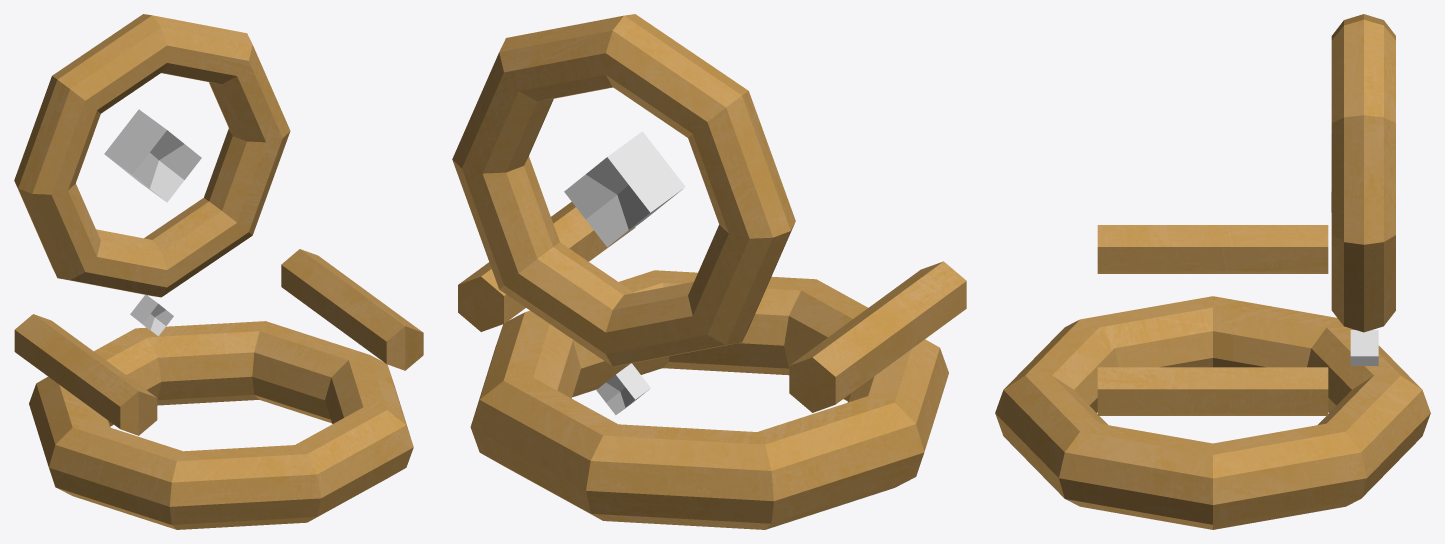
File: Chair.fbx
The picture shows the model from 3 angles, left to right: view 1: azimuth 30°, elevation 25°; view 2: azimuth 150°, elevation 25°; view 3: azimuth 270°, elevation 25°; orthographic projection. The views are drawn at different scales.
Parts seen in each view (by area): view 1: Chair; view 2: Chair; view 3: Chair.
Part boxes in pixels (x1,y1,x2,y2): Chair: [14, 14, 423, 529]; Chair: [452, 14, 966, 529]; Chair: [995, 14, 1430, 529].
Size of the model in its own units: 702 by 766 by 702.
